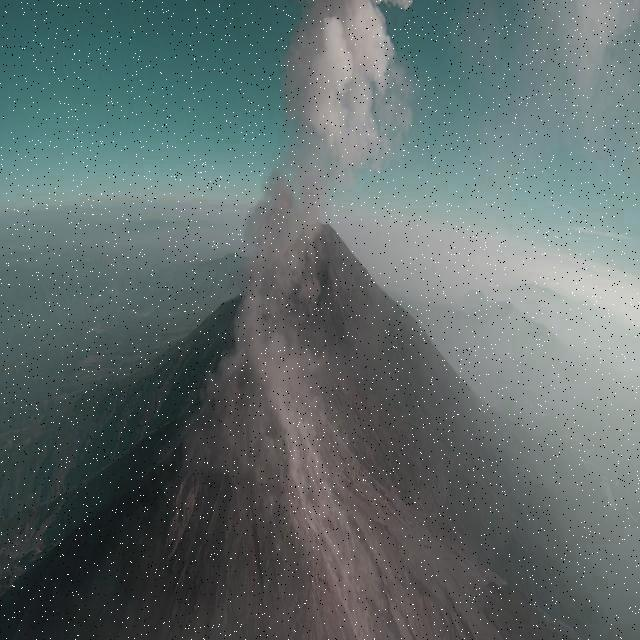Plume: (273, 0, 422, 174), (224, 169, 334, 374)
